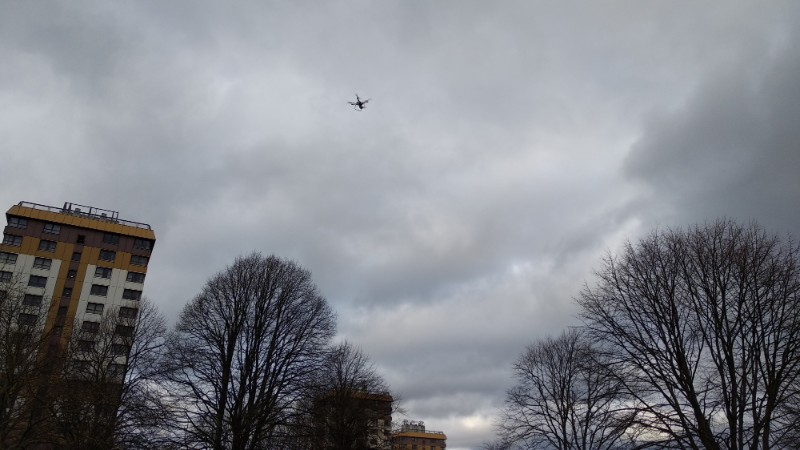drone: (347, 95, 373, 112)
